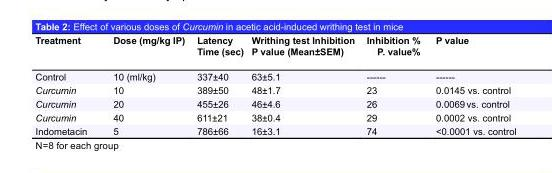table: (34, 34, 515, 136)
table column: (246, 34, 359, 136), (99, 34, 190, 136), (427, 34, 515, 136), (359, 34, 427, 136), (34, 34, 99, 136), (190, 34, 246, 136)
table column header: (34, 34, 515, 63)
table row: (34, 34, 515, 63), (34, 63, 515, 82), (34, 82, 515, 96), (34, 96, 515, 110), (34, 110, 515, 123), (34, 123, 515, 136)
